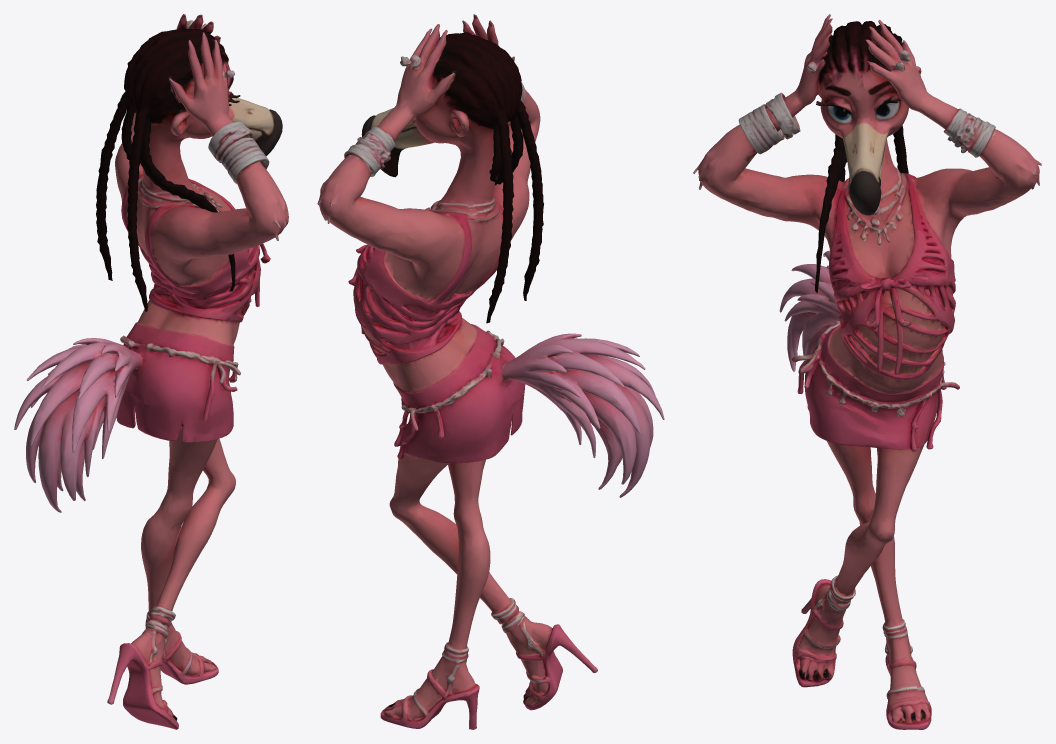
Rendered from FLAMINGLOW.glb.
3 renders of one model, left to right at view 1: azimuth 30°, elevation 25°; view 2: azimuth 150°, elevation 25°; view 3: azimuth 270°, elevation 25°, orthographic.
Parts seen in each view (by area): view 1: tripo_node_73d8176c-a3c2-4237-be0c-8b5d7b902484; view 2: tripo_node_73d8176c-a3c2-4237-be0c-8b5d7b902484; view 3: tripo_node_73d8176c-a3c2-4237-be0c-8b5d7b902484.
Boxes of the visible parts, bbox=[...] form: tripo_node_73d8176c-a3c2-4237-be0c-8b5d7b902484: bbox=[14, 14, 288, 729]; tripo_node_73d8176c-a3c2-4237-be0c-8b5d7b902484: bbox=[317, 14, 664, 729]; tripo_node_73d8176c-a3c2-4237-be0c-8b5d7b902484: bbox=[693, 14, 1041, 729].
Bounding box in the file's own units: 0.4237 × 1 × 0.4576.
Materials: 1 (1 with a texture image).
